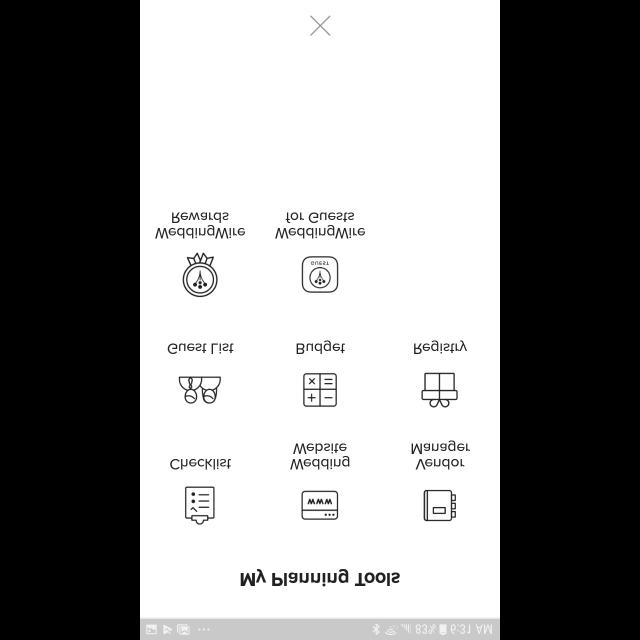icon: (422, 372, 458, 408), (185, 486, 215, 524), (302, 490, 338, 520), (424, 489, 456, 521), (310, 16, 330, 36)
image: (182, 252, 218, 296), (302, 255, 338, 292), (179, 376, 221, 404), (303, 373, 337, 407)
text: (240, 568, 400, 586), (275, 212, 365, 240), (155, 212, 245, 238), (412, 440, 471, 470), (290, 442, 350, 470), (414, 340, 468, 354), (168, 342, 234, 353), (296, 340, 346, 354), (170, 458, 232, 469)
uppertaskbar: (140, 618, 500, 640)
